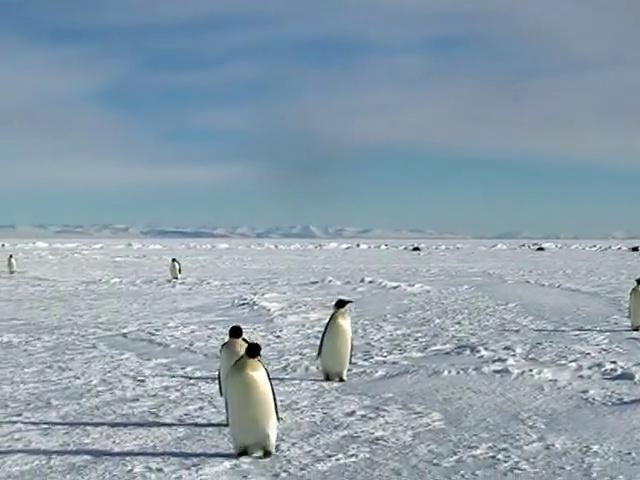animal: (317, 299, 352, 380)
